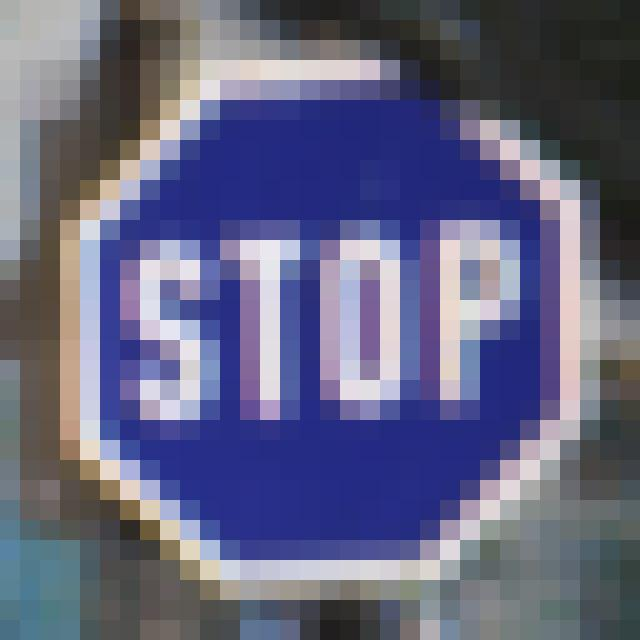STOP: (74, 82, 606, 576)
